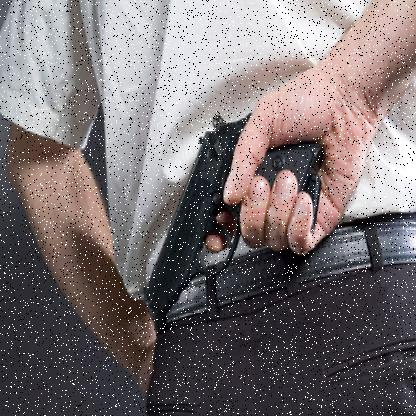pistol: (140, 108, 327, 317)
